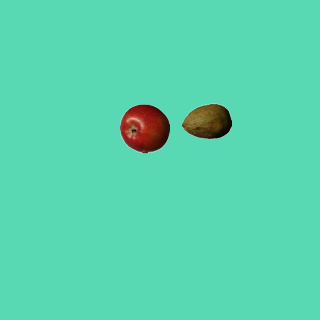Apple Braeburn: (119, 103, 169, 153)
Papaya: (181, 96, 231, 146)
